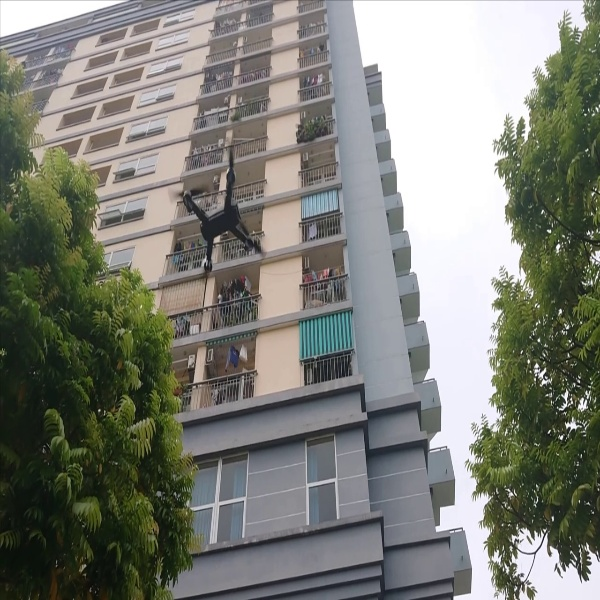drone: (178, 144, 264, 276)
